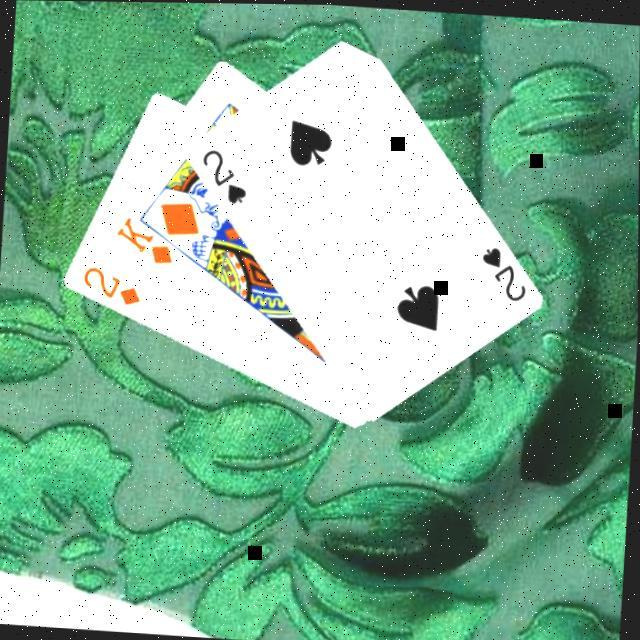2D: (80, 264, 147, 312)
2S: (196, 146, 254, 210), (478, 242, 534, 307)
KD: (113, 214, 180, 270)
